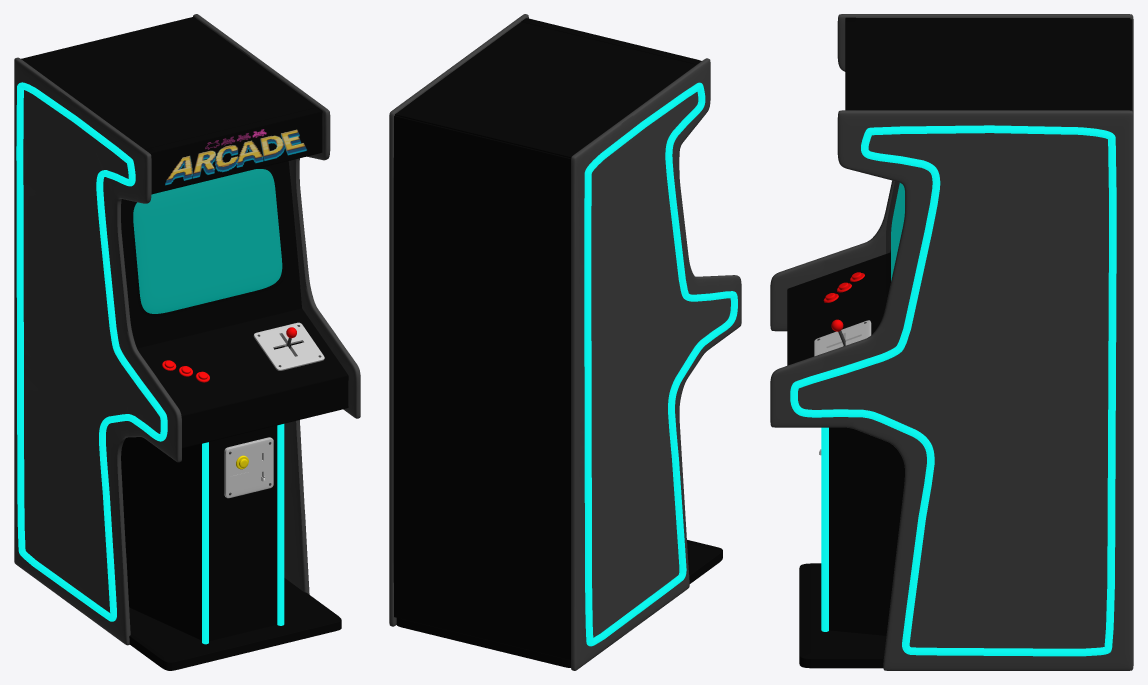
The picture shows the model from 3 angles, left to right: view 1: azimuth 30°, elevation 25°; view 2: azimuth 150°, elevation 25°; view 3: azimuth 270°, elevation 25°; orthographic projection. The views are drawn at different scales.
Parts seen in each view (by area): view 1: Объект_Куб_1, Объект_Куб_4, Объект_Куб_19, Объект_Куб_7, Объект_Куб_15, Объект_Куб_16, Объект_Куб_9, Sweep_NURBS_1, Объект_Куб_8, Объект_Куб_5, Объект_Куб, Объект_Куб_3 (+5 smaller); view 2: Объект_Куб_2, Объект_Куб_1, Объект_Куб_4, Sweep_NURBS_1, Объект_Куб, Объект_Куб_3, Объект_Куб_5; view 3: Объект_Куб, Объект_Куб_4, Sweep_NURBS, Объект_Куб_14, Объект_Куб_9, Объект_Куб_1, Объект_Куб_3, Объект_Цилиндр_4, Объект_Куб_19, Объект_Куб_5, Объект_Куб_17, Объект_Куб_7.
Boxes of the visible parts, bbox=[...] form: Объект_Куб_1: bbox=[14, 57, 181, 645]; Объект_Куб_4: bbox=[21, 16, 316, 149]; Объект_Куб_19: bbox=[131, 167, 285, 316]; Объект_Куб_7: bbox=[133, 169, 282, 313]; Объект_Куб_15: bbox=[121, 437, 201, 640]; Объект_Куб_16: bbox=[209, 425, 277, 641]; Объект_Куб_9: bbox=[137, 308, 347, 415]; Sweep_NURBS_1: bbox=[16, 82, 167, 621]; Объект_Куб_8: bbox=[121, 161, 301, 348]; Объект_Куб_5: bbox=[145, 107, 322, 194]; Объект_Куб: bbox=[193, 14, 360, 594]; Объект_Куб_3: bbox=[129, 578, 341, 670]; Объект_Куб_2: bbox=[393, 115, 570, 659]; Объект_Куб_1: bbox=[571, 58, 741, 670]; Объект_Куб_4: bbox=[395, 22, 696, 158]; Sweep_NURBS_1: bbox=[584, 82, 737, 646]; Объект_Куб: bbox=[389, 14, 528, 626]; Объект_Куб_3: bbox=[396, 540, 722, 667]; Объект_Куб_5: bbox=[521, 18, 701, 64]; Объект_Куб: bbox=[770, 110, 1133, 670]; Объект_Куб_4: bbox=[856, 18, 1130, 110]; Sweep_NURBS: bbox=[790, 125, 1116, 656]; Объект_Куб_14: bbox=[829, 427, 904, 635]; Объект_Куб_9: bbox=[788, 253, 890, 364]; Объект_Куб_1: bbox=[770, 14, 1133, 331]; Объект_Куб_3: bbox=[799, 563, 886, 668]; Объект_Цилиндр_4: bbox=[821, 427, 828, 631]; Объект_Куб_19: bbox=[886, 181, 904, 296]; Объект_Куб_5: bbox=[845, 17, 856, 110]; Объект_Куб_17: bbox=[814, 320, 871, 356]; Объект_Куб_7: bbox=[891, 183, 904, 280].
Bounding box in the file's own units: 64.97 × 161 × 94.77.
9 materials, 1 textured.
